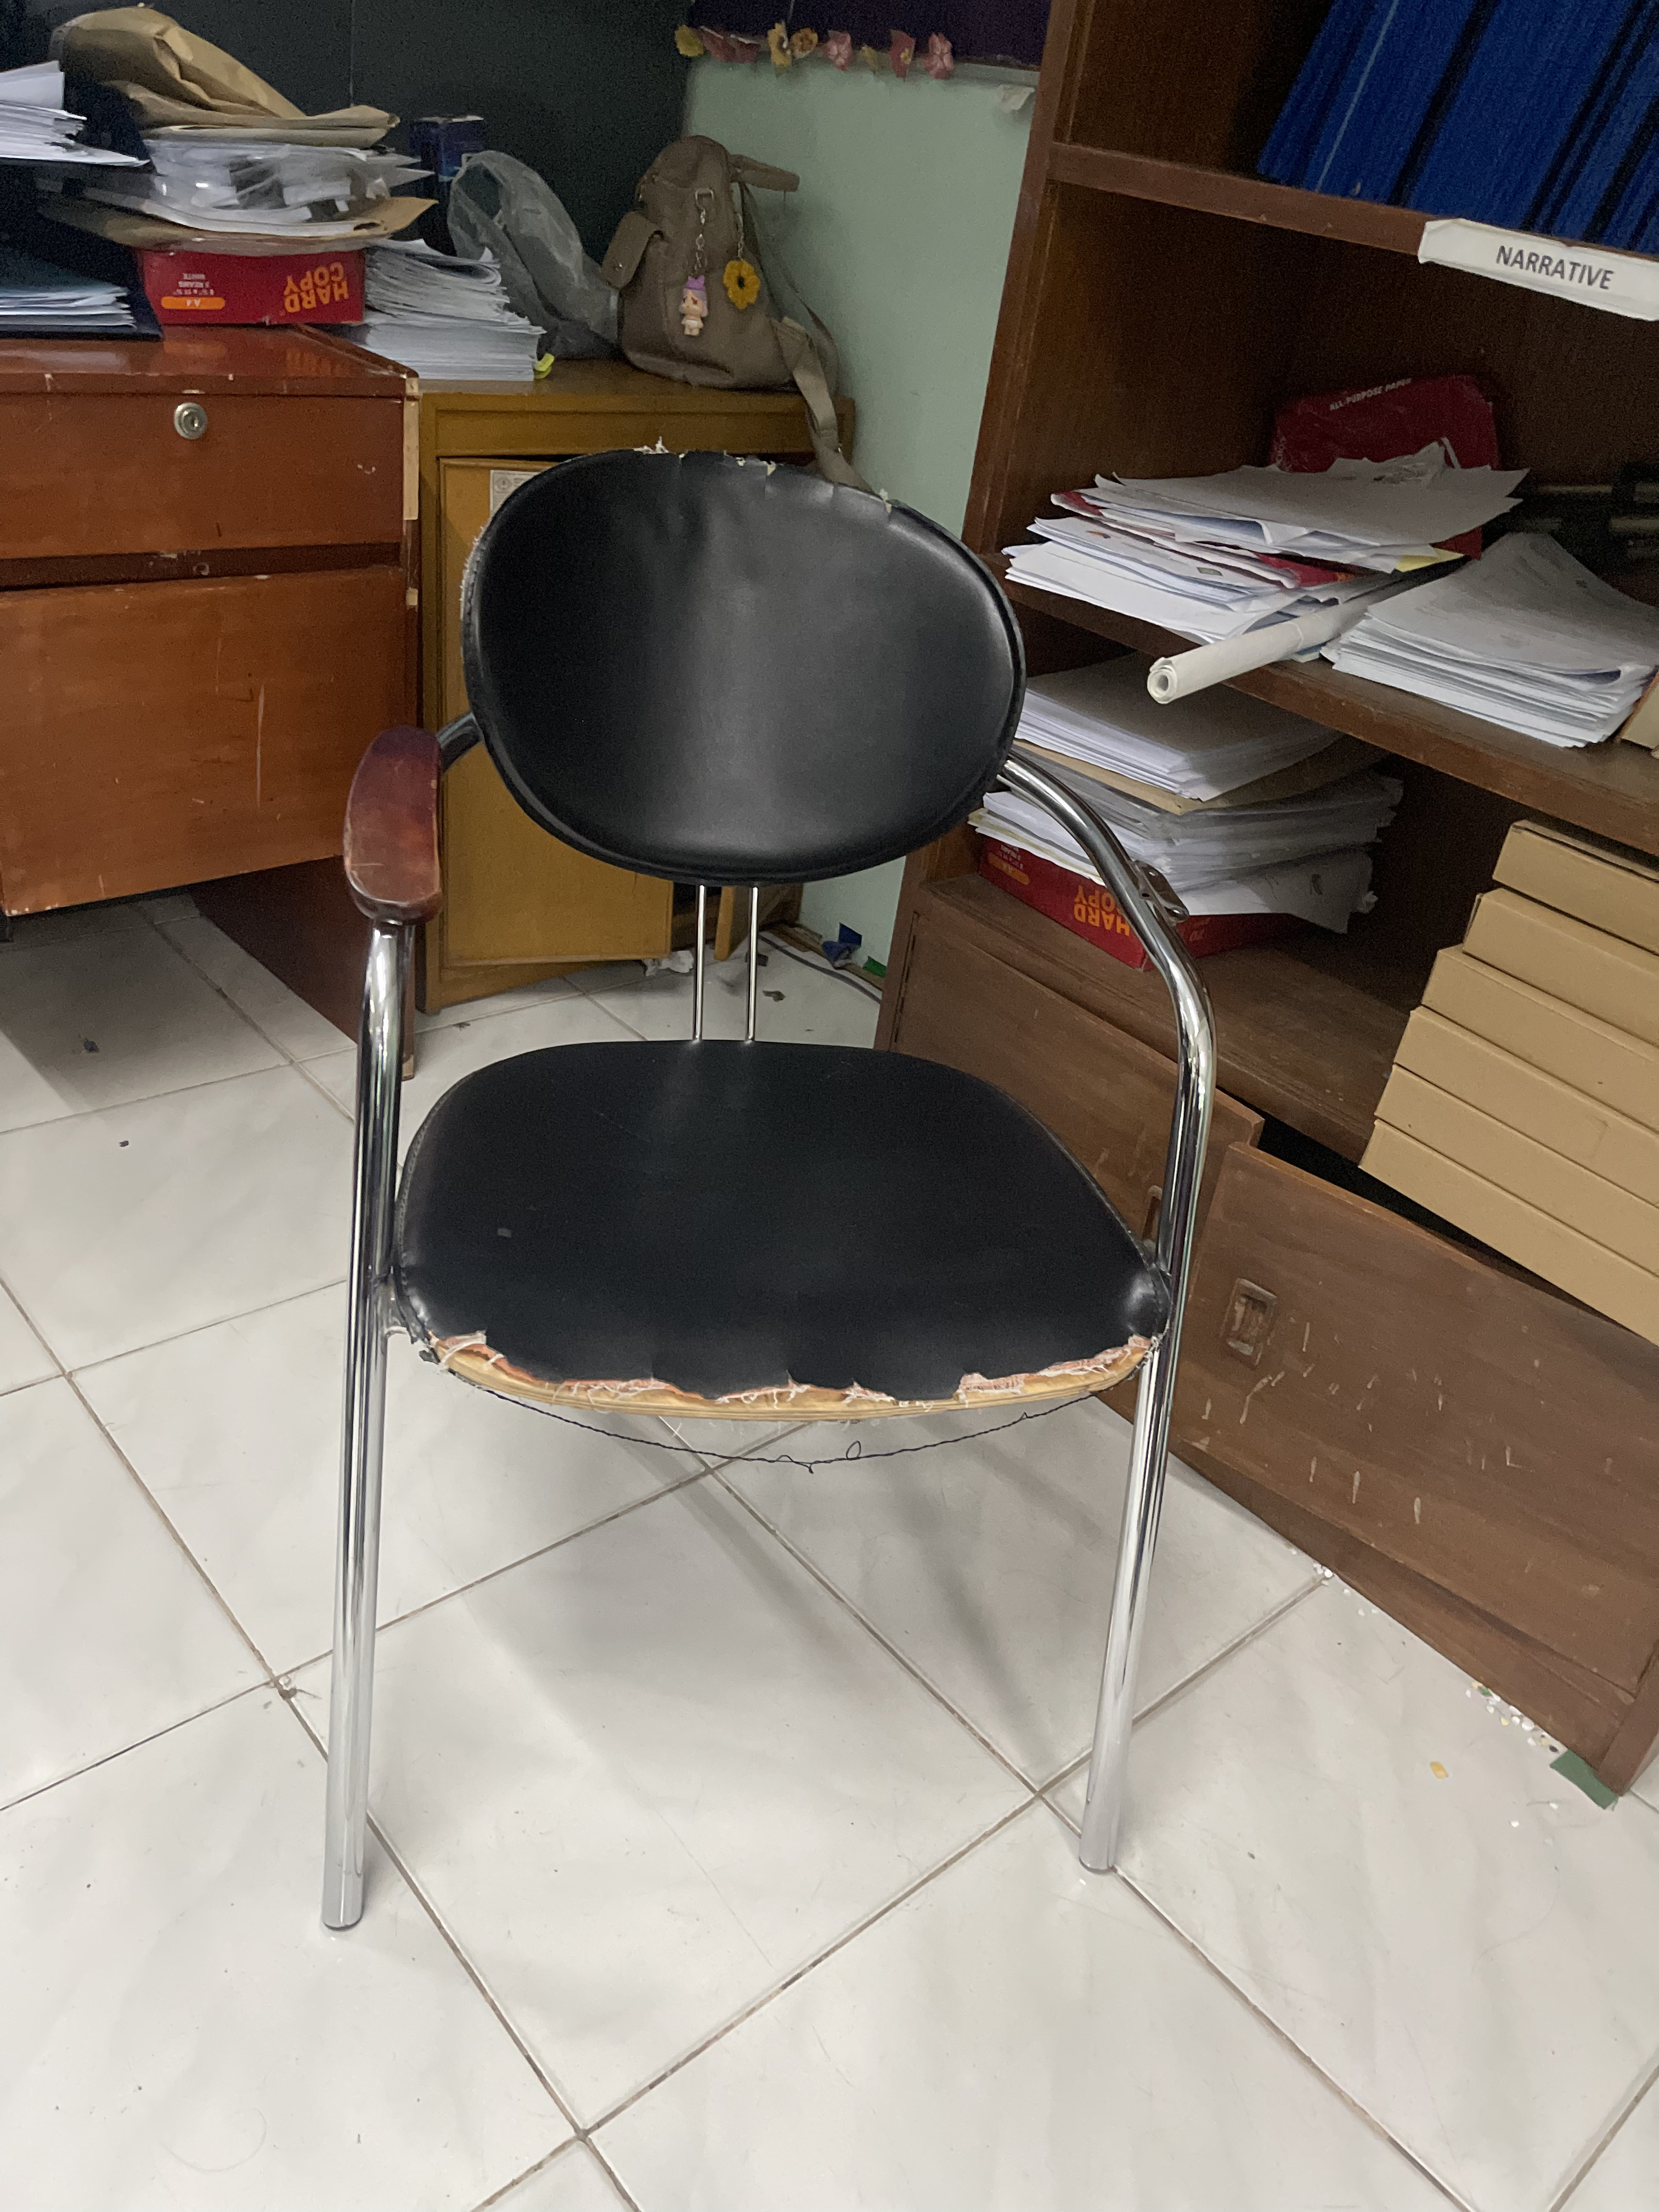chair1: (319, 449, 1216, 1970)
